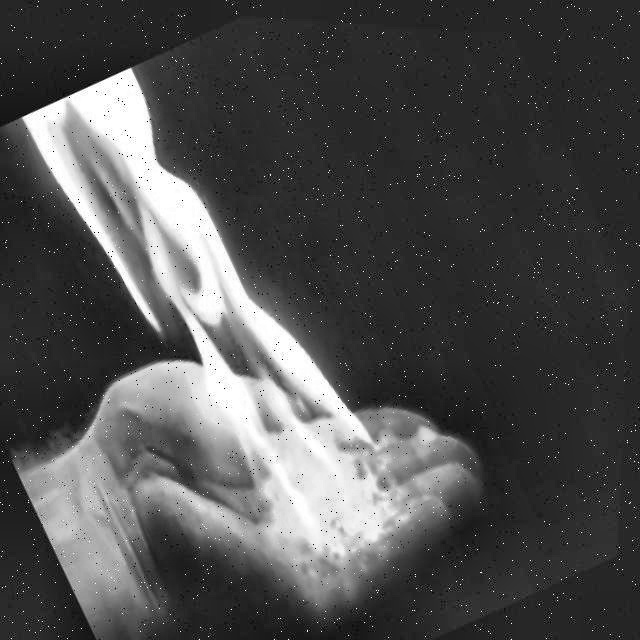Smoke: (0, 27, 430, 593)
